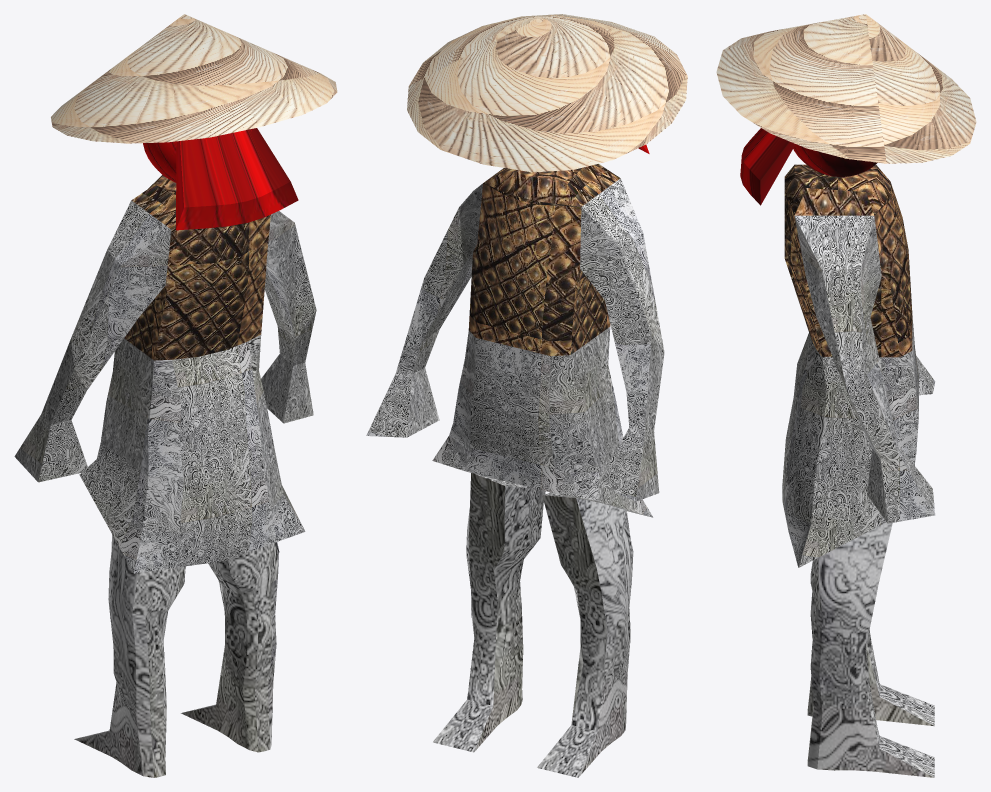
Rendered from samuritext.fbx.
3 renders of one model, left to right at view 1: azimuth 30°, elevation 25°; view 2: azimuth 150°, elevation 25°; view 3: azimuth 270°, elevation 25°, orthographic. The views are drawn at different scales.
Parts seen in each view (by area): view 1: polySurface1, polySurface2, polySurface5, polySurface4, polySurface3; view 2: polySurface1, polySurface2, polySurface5, polySurface4; view 3: polySurface1, polySurface2, polySurface4, polySurface3, polySurface5.
Boxes of the visible parts, left/top/right/bottom form: polySurface1: left=14, top=175, right=316, bottom=573; polySurface2: left=51, top=14, right=337, bottom=143; polySurface5: left=74, top=534, right=185, bottom=777; polySurface4: left=181, top=542, right=279, bottom=752; polySurface3: left=143, top=128, right=298, bottom=230; polySurface1: left=366, top=164, right=664, bottom=517; polySurface2: left=407, top=14, right=687, bottom=172; polySurface5: left=537, top=492, right=633, bottom=777; polySurface4: left=433, top=473, right=545, bottom=752; polySurface1: left=782, top=164, right=935, bottom=567; polySurface2: left=716, top=14, right=976, bottom=163; polySurface4: left=807, top=522, right=934, bottom=777; polySurface3: left=740, top=128, right=877, bottom=205; polySurface5: left=807, top=592, right=934, bottom=726.
Size of the model in its own units: 1.99 by 5.05 by 1.63.
5 materials, 5 textured.
